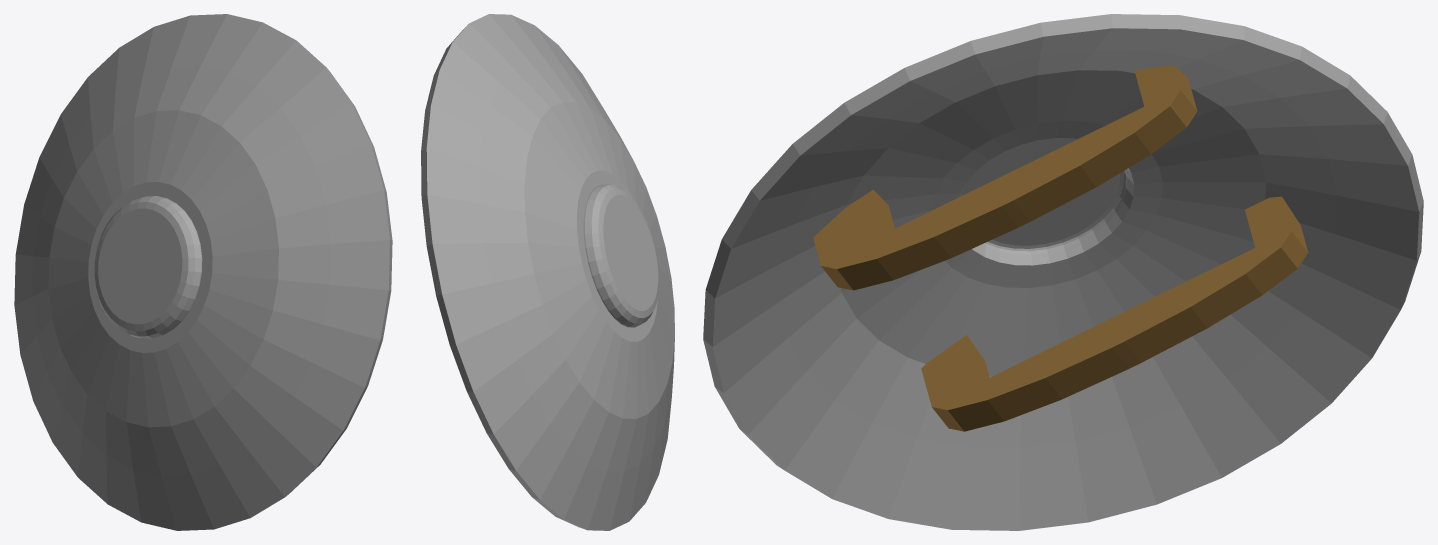
The model's file is Shield_high.fbx.
The picture shows the model from 3 angles, left to right: view 1: azimuth 30°, elevation 25°; view 2: azimuth 150°, elevation 25°; view 3: azimuth 270°, elevation 25°; orthographic projection. The views are drawn at different scales.
Visible parts, largest first — view 1: shield_low.001; view 2: shield_low.001; view 3: shield_low.001, handle_low1.001, handle_low.001.
Part boxes in pixels (box(x1,y1,x2,y2)): shield_low.001: box(14, 14, 392, 530); shield_low.001: box(421, 14, 674, 530); shield_low.001: box(703, 14, 1423, 530); handle_low1.001: box(813, 65, 1197, 290); handle_low.001: box(921, 196, 1308, 431).
Bounding box in the file's own units: 1114 × 2328 × 2451.
